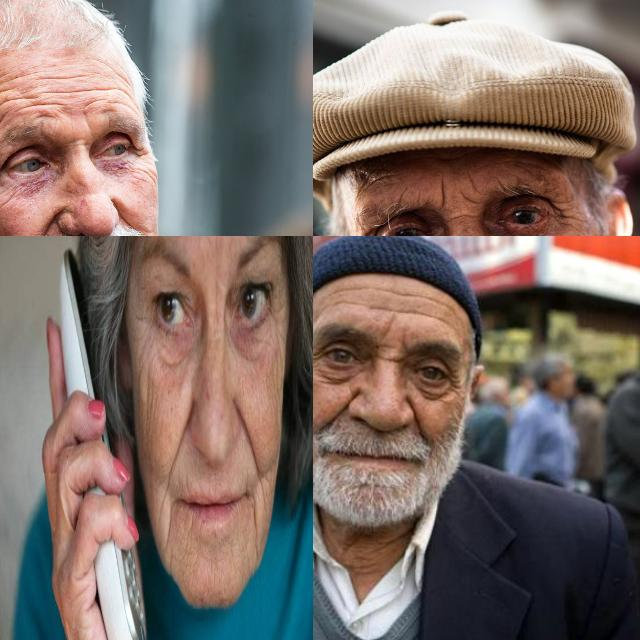chin: (183, 512, 194, 555), (228, 540, 237, 574)
crows_feet: (552, 194, 580, 232), (132, 150, 156, 187), (446, 373, 462, 399), (313, 346, 323, 374)
forehead: (78, 82, 140, 116), (15, 92, 64, 121), (378, 300, 417, 324), (377, 280, 417, 302), (330, 294, 372, 312), (330, 280, 368, 296), (424, 292, 454, 312), (420, 308, 452, 326), (0, 75, 8, 131)
frown_line: (456, 170, 480, 210), (436, 175, 454, 219), (378, 344, 404, 364), (66, 133, 90, 149), (213, 280, 219, 331)
gummy_smile: (168, 384, 190, 483), (236, 396, 262, 476), (322, 390, 351, 428), (109, 201, 139, 236), (408, 396, 427, 440), (34, 214, 57, 236)
masseter: (146, 366, 157, 438), (271, 345, 283, 405)
sad_smile: (250, 493, 262, 560), (163, 501, 176, 555)
